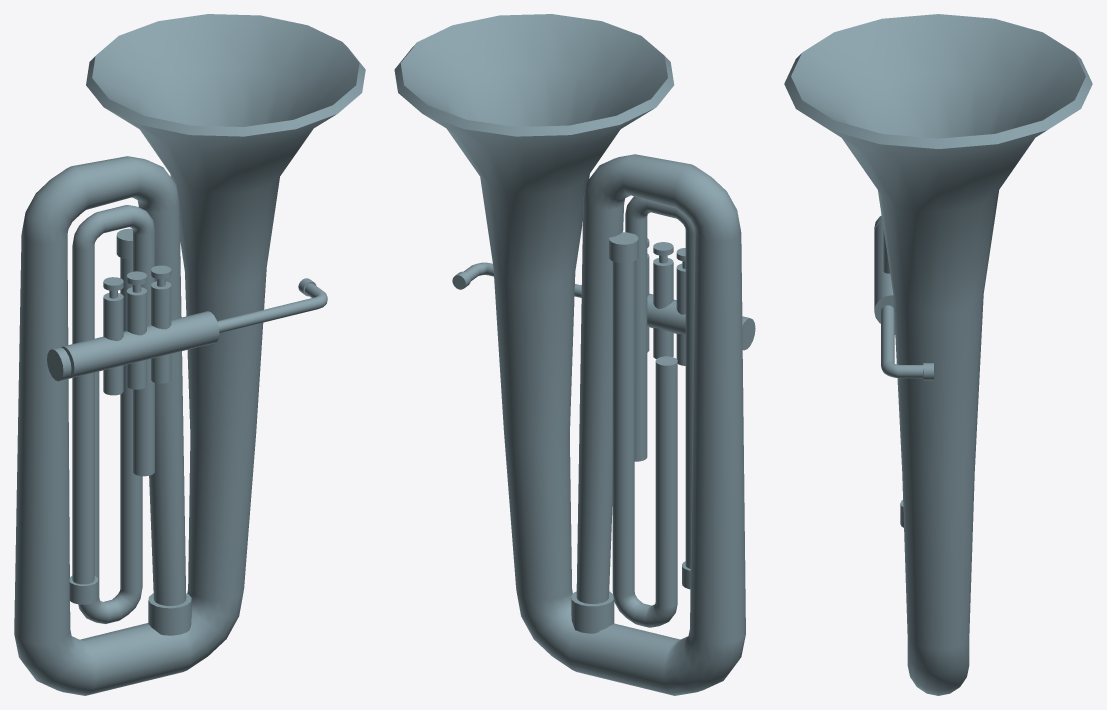
The model's file is Tuba.fbx.
The picture shows the model from 3 angles, left to right: view 1: azimuth 30°, elevation 25°; view 2: azimuth 150°, elevation 25°; view 3: azimuth 270°, elevation 25°; orthographic projection. The views are drawn at different scales.
Parts seen in each view (by area): view 1: Tuba; view 2: Tuba; view 3: Tuba.
Boxes of the visible parts, bbox=[...] form: Tuba: bbox=[14, 14, 365, 695]; Tuba: bbox=[394, 14, 755, 695]; Tuba: bbox=[784, 14, 1092, 695].
Size of the model in its own units: 54.34 by 92.4 by 40.21.
